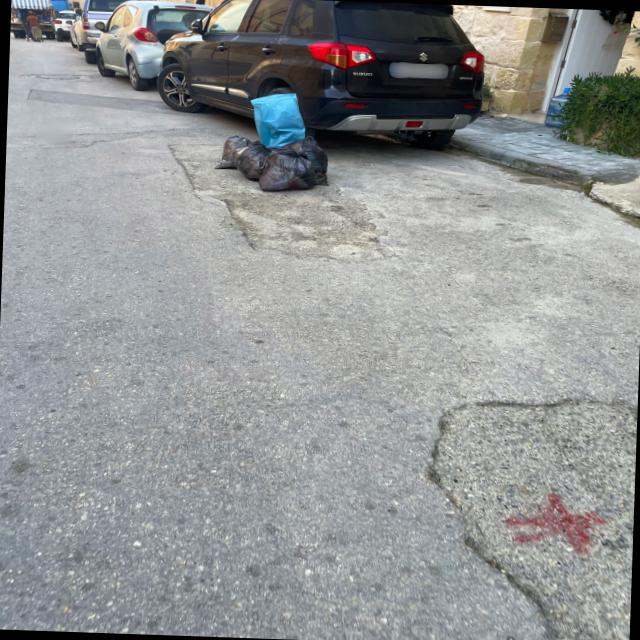black_bag: (256, 146, 318, 193), (286, 134, 331, 186), (231, 140, 270, 182), (214, 134, 253, 172)
other_waste: (246, 93, 310, 148)
